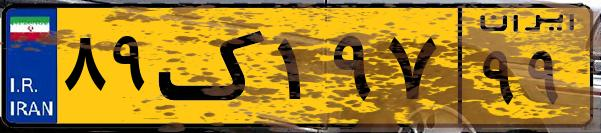1: (270, 28, 330, 110)
7: (385, 28, 445, 110)
8: (57, 26, 110, 100)
9: (330, 28, 385, 110), (475, 38, 525, 113), (525, 38, 570, 115), (110, 28, 158, 98)
ک: (158, 12, 270, 120)
